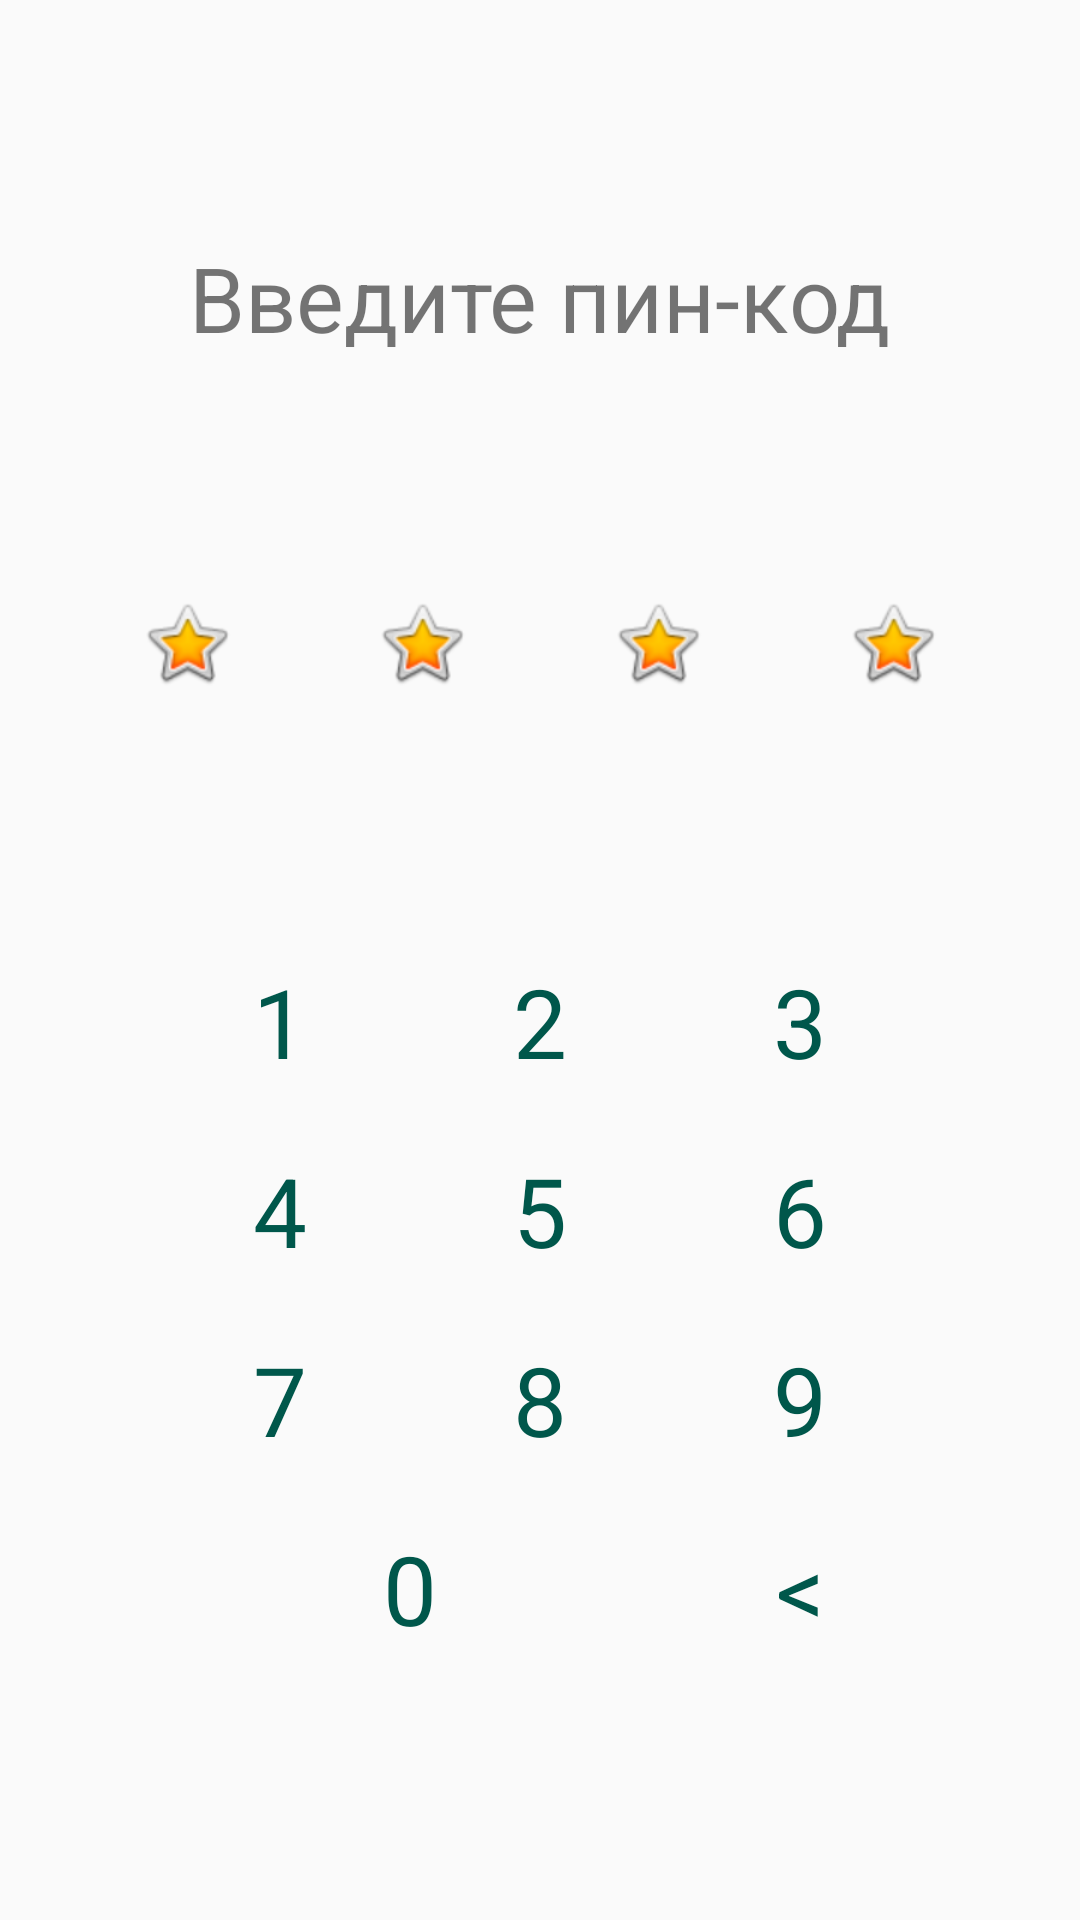

Where icons sit on this 1080px×1920px app screen, as (x1, y1, x2, y2):
star on: (148, 605, 228, 683), (383, 605, 463, 683), (619, 605, 699, 683), (854, 605, 934, 683)
